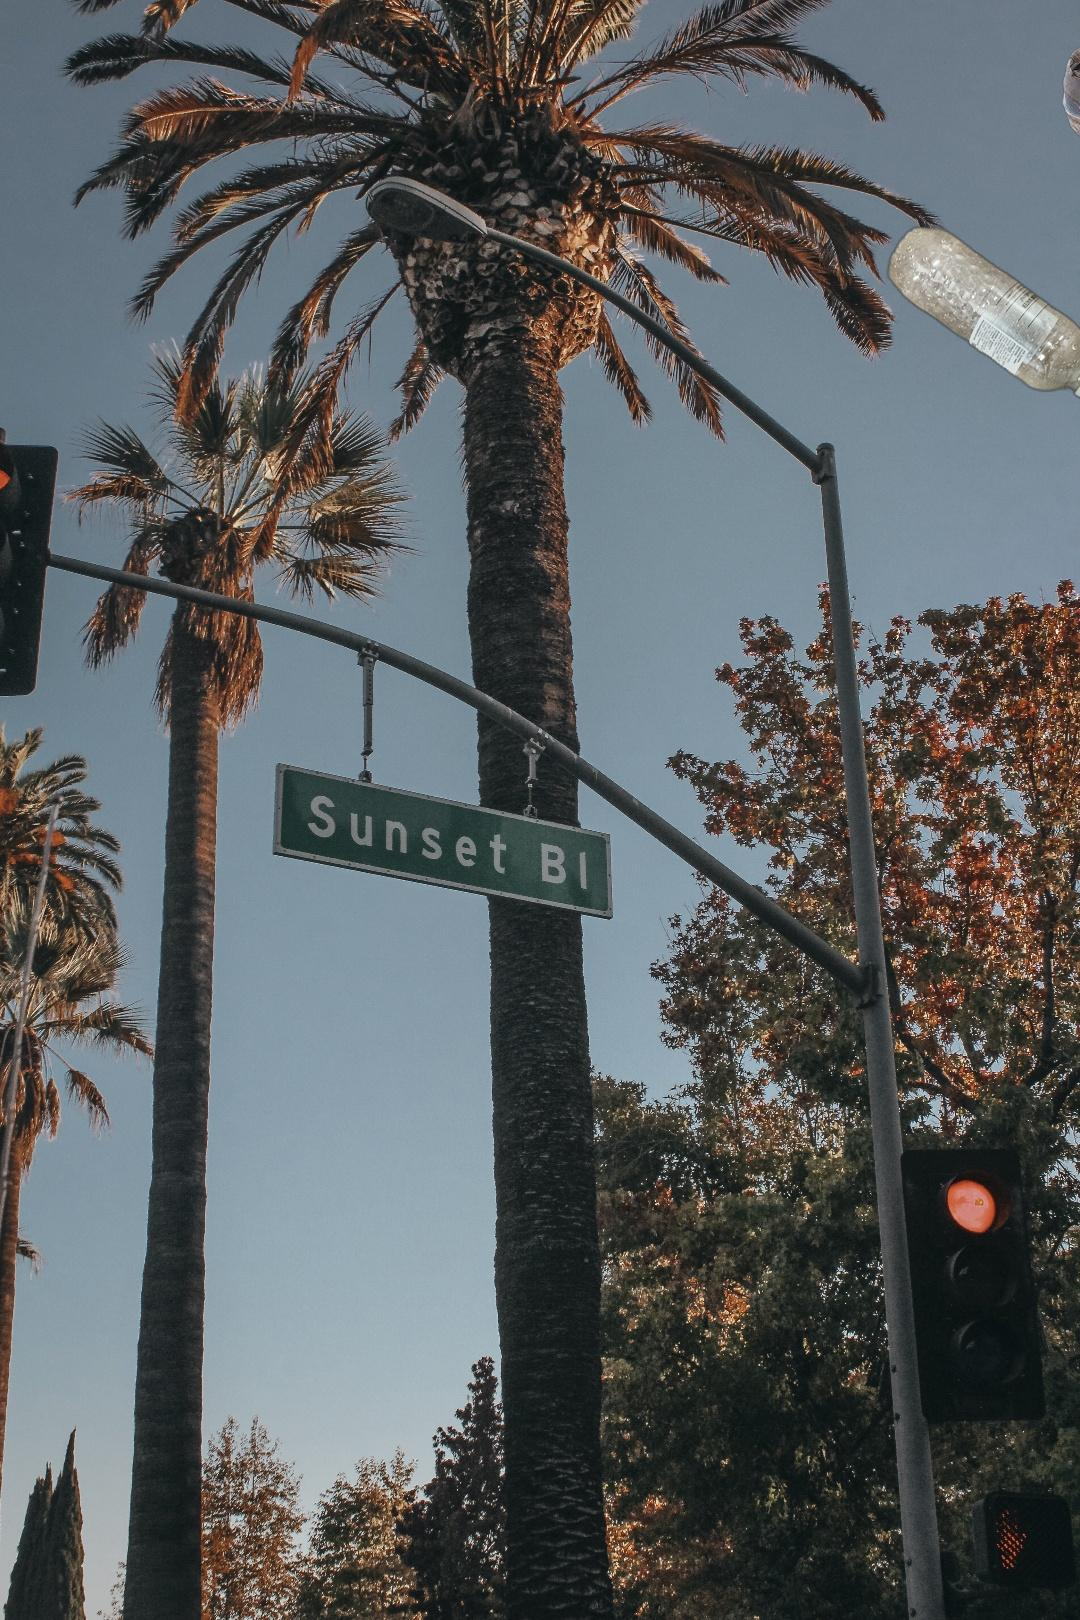plastic-bottles: (884, 221, 1080, 409)
shoes: (1060, 17, 1080, 143)
